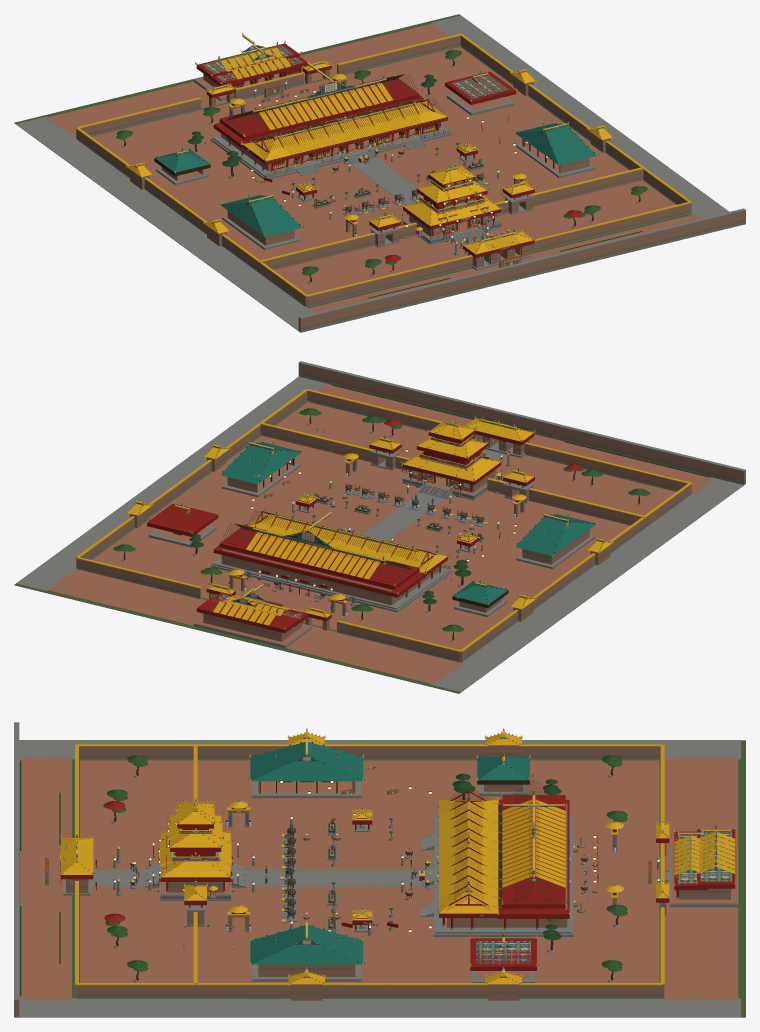
File: T09_the_to_mieu_hien_lam_cac.glb
3 views of the same model, one above another, from view 1: azimuth 30°, elevation 25°; view 2: azimuth 150°, elevation 25°; view 3: azimuth 270°, elevation 25° (orthographic). The views are drawn at different scales.
Parts seen in each view (by area): view 1: T09_Architecture_Root, T09_V08_WalkableShells_Root, T09_V03_ThietDinh_HoanhPhi_ChungCo_Polish; view 2: T09_Architecture_Root, T09_V08_WalkableShells_Root, T09_V03_ThietDinh_HoanhPhi_ChungCo_Polish; view 3: T09_Architecture_Root, T09_V08_WalkableShells_Root, T09_V03_ThietDinh_HoanhPhi_ChungCo_Polish, T09_V06_ReuPhongCoKinh_ChanDe_DaThanh_Polish_01.
Part boxes in pixels (x1,y1,x2,y2): T09_Architecture_Root: [14, 14, 745, 332]; T09_V08_WalkableShells_Root: [161, 57, 589, 252]; T09_V03_ThietDinh_HoanhPhi_ChungCo_Polish: [297, 141, 520, 249]; T09_Architecture_Root: [14, 361, 745, 693]; T09_V08_WalkableShells_Root: [155, 440, 589, 641]; T09_V03_ThietDinh_HoanhPhi_ChungCo_Polish: [297, 423, 519, 550]; T09_Architecture_Root: [14, 722, 745, 1017]; T09_V08_WalkableShells_Root: [168, 781, 730, 979]; T09_V03_ThietDinh_HoanhPhi_ChungCo_Polish: [60, 808, 371, 929]; T09_V06_ReuPhongCoKinh_ChanDe_DaThanh_Polish_01: [20, 760, 597, 995].
Size of the model in its own units: 130 by 17.12 by 145.
19 materials, 3 textured.
